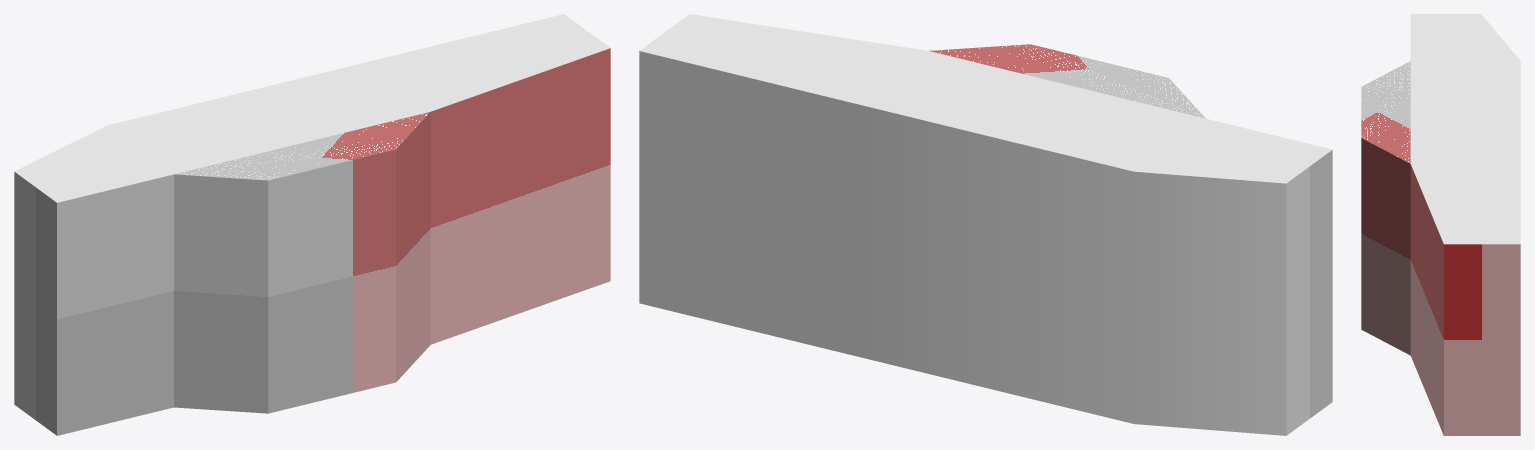
File: defaultvehicle_LOD0.obj
3 renders of one model, left to right at view 1: azimuth 30°, elevation 25°; view 2: azimuth 150°, elevation 25°; view 3: azimuth 270°, elevation 25°, orthographic. The views are drawn at different scales.
Visible parts, largest first — view 1: mtl_defaultvehicle; view 2: mtl_defaultvehicle; view 3: mtl_defaultvehicle.
Boxes of the visible parts, left/top/right/bottom form: mtl_defaultvehicle: left=14, top=14, right=610, bottom=435; mtl_defaultvehicle: left=639, top=14, right=1332, bottom=435; mtl_defaultvehicle: left=1361, top=14, right=1520, bottom=435.
Bounding box in the file's own units: 504 × 195 × 147.
